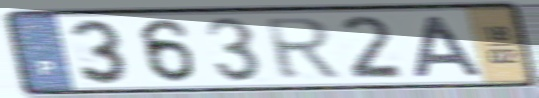2: (343, 13, 408, 82)
3: (65, 17, 133, 87), (204, 15, 269, 85)
6: (136, 16, 199, 85)
A: (408, 14, 488, 80)
R: (261, 15, 344, 82)
